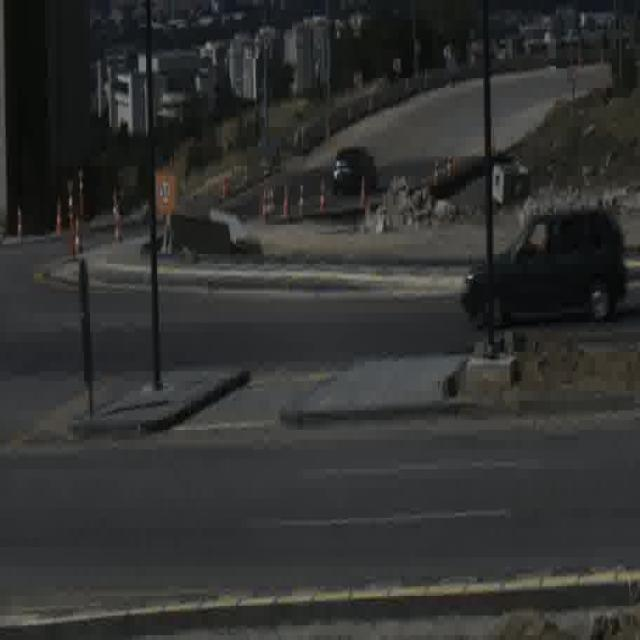Car: (461, 204, 626, 329), (332, 144, 377, 200)
